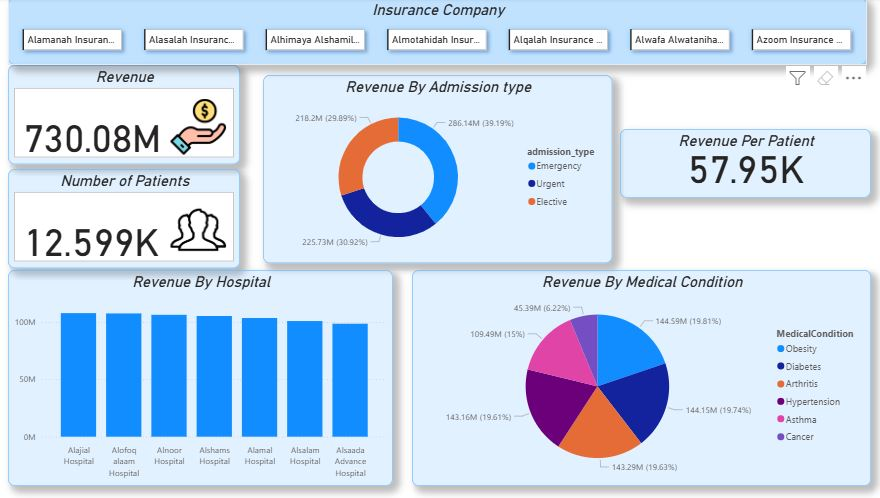

The page's visual inventory and layout, read from the dashboard file:
{"tool":"powerbi","page":{"name":"Revenue","canvas":[1280,720],"ordinal":0},"visuals":[{"type":"cardVisual","title":"Revenue","fields":{"Data":["Sum(HealthCare_Claims clear(Sheet1).billing_amount)"]},"box":[20.2,96.5,334.1,142.6],"z":0},{"type":"cardVisual","title":"Number of Patients","fields":{"Data":["Count(HealthCare_Claims clear(Sheet1).patient_id)"]},"box":[20.2,246.2,334.1,142.6],"z":1000},{"type":"donutChart","title":"Revenue By Admission type","fields":{"Category":["HealthCare_Claims clear(Sheet1).admission_type"],"Y":["Sum(HealthCare_Claims clear(Sheet1).billing_amount)"]},"box":[387.4,110.9,502.6,270.7],"z":2000},{"type":"columnChart","title":"Revenue By Hospital","fields":{"Category":["HealthCare_Claims clear(Sheet1).hospital_name"],"Y":["Sum(HealthCare_Claims clear(Sheet1).billing_amount)"]},"box":[20.2,391.7,554.4,311],"z":3000},{"type":"pieChart","title":"Revenue By Medical Condition","fields":{"Category":["HealthCare_Claims clear(Sheet1).MedicalCondition"],"Y":["Sum(HealthCare_Claims clear(Sheet1).billing_amount)"]},"box":[601.9,391.7,661,311],"z":4000},{"type":"card","title":"Revenue Per Patient","fields":{"Values":["HealthCare_Claims clear(Sheet1).billing_amount divided by Count of patient_id"]},"box":[901.4,188.6,361.4,99.4],"z":5000},{"type":"advancedSlicerVisual","fields":{"Values":["HealthCare_Claims clear(Sheet1).insurance_provider_name"]},"box":[20.2,0,1237,96.5],"z":6000}]}

Visuals, with their boxes in screenshot pixels (x1, y1, x2, y2), scaled from the page's 1280x720 canvas onto the 880x498 screenshot:
"Revenue" cardVisual: bbox=[14, 67, 244, 165]
"Number of Patients" cardVisual: bbox=[14, 170, 244, 269]
"Revenue By Admission type" donutChart: bbox=[266, 77, 612, 264]
"Revenue By Hospital" columnChart: bbox=[14, 271, 395, 486]
"Revenue By Medical Condition" pieChart: bbox=[414, 271, 868, 486]
"Revenue Per Patient" card: bbox=[620, 130, 868, 199]
advancedSlicerVisual - HealthCare_Claims clear(Sheet1).insurance_provider_name: bbox=[14, 0, 864, 67]
